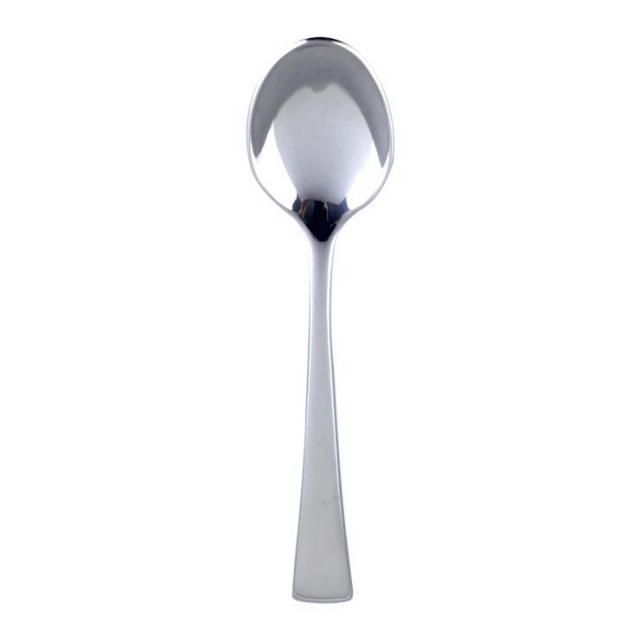spoon: (228, 13, 408, 640)
